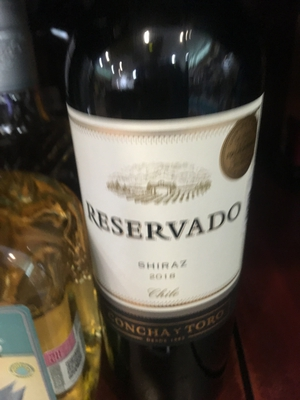reservado shiraz: (61, 23, 278, 381)
